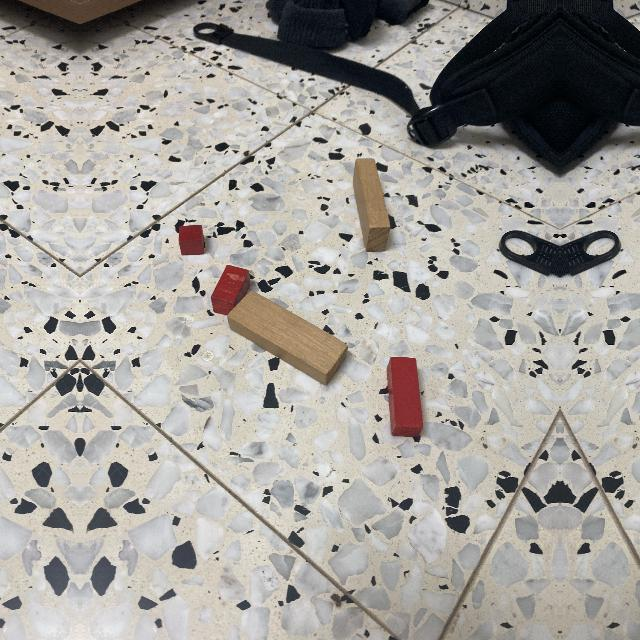jenga: (227, 290, 348, 386), (353, 157, 396, 253)
red block: (387, 357, 423, 437), (210, 265, 250, 315)
red cube: (179, 225, 204, 256)
